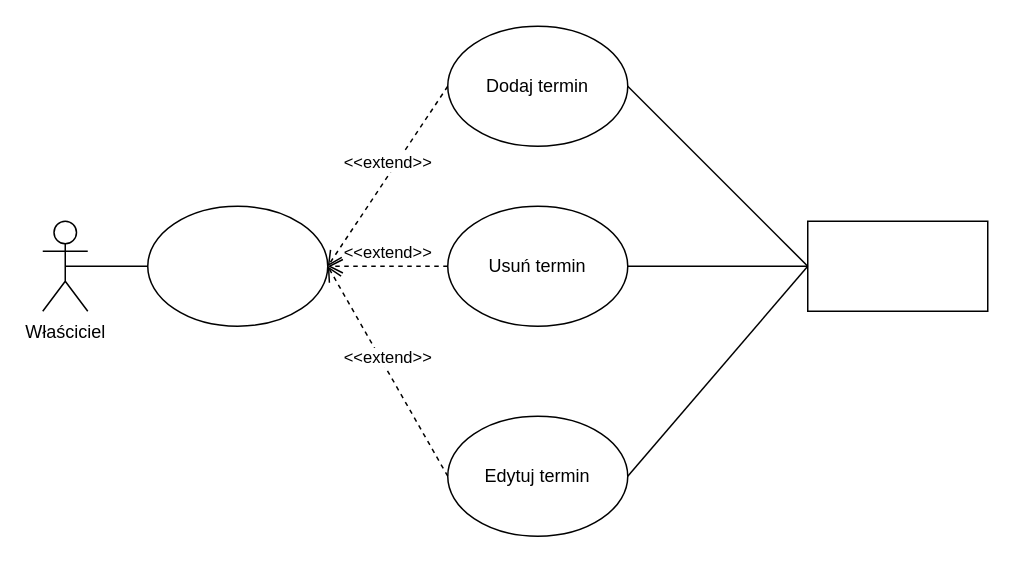
This 1014x563 diagram has some shape labels left out. Here are the shapes that lost their labels. From the top down, the centre of each, then its label:
At pixel 237 265: "Wyznaczanie terminów aukcji".
At pixel 897 265: "<<Aktor>> System aukcji".
